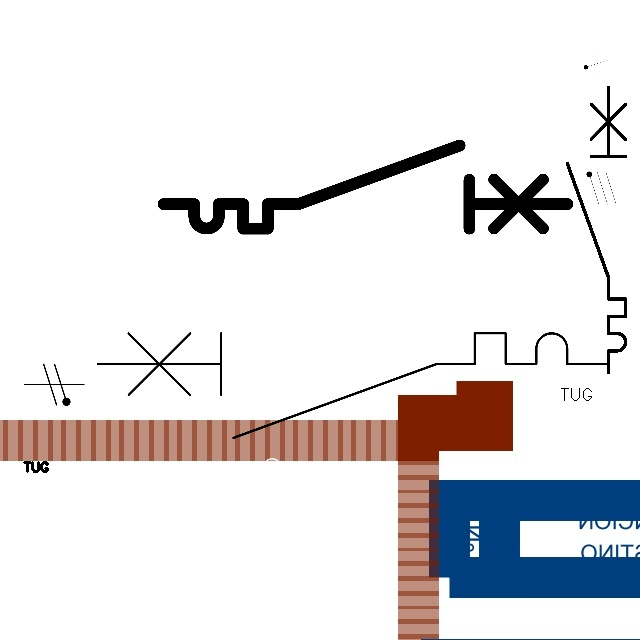interruptor_termomagnetico: (84, 320, 619, 451), (153, 135, 578, 239), (560, 80, 633, 380)
